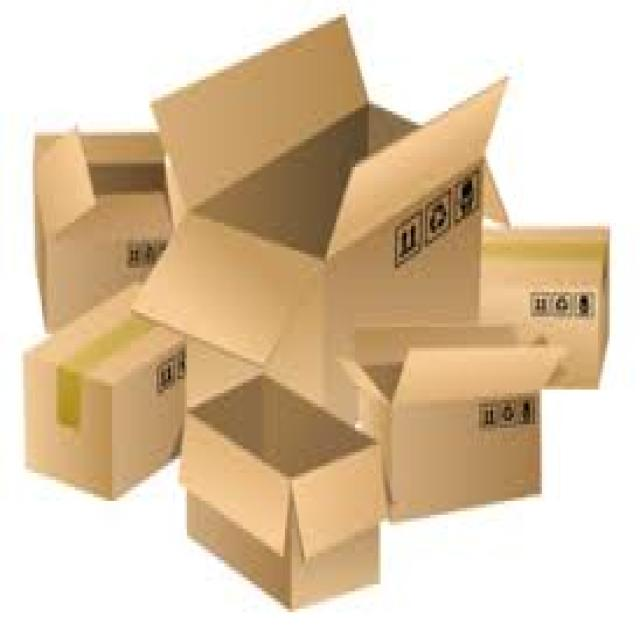cardboard: (128, 11, 507, 411), (175, 365, 388, 609), (336, 310, 563, 518), (21, 275, 185, 497), (33, 122, 173, 320), (481, 223, 607, 386)
